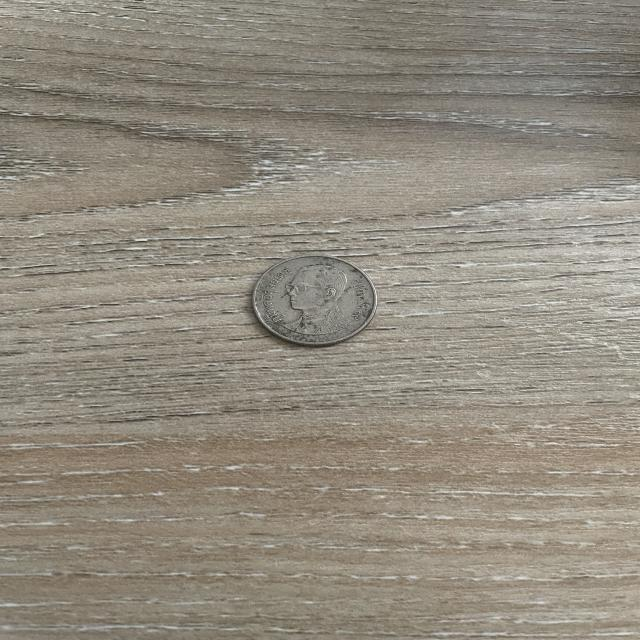1 Bath: (249, 251, 383, 353)
